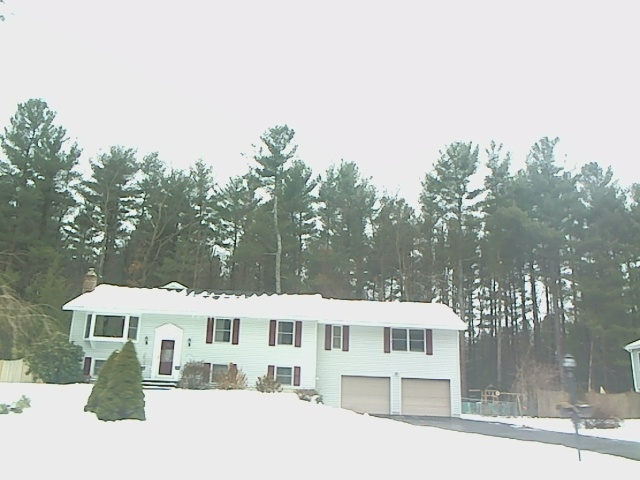Ploughed: (392, 412, 504, 434)
